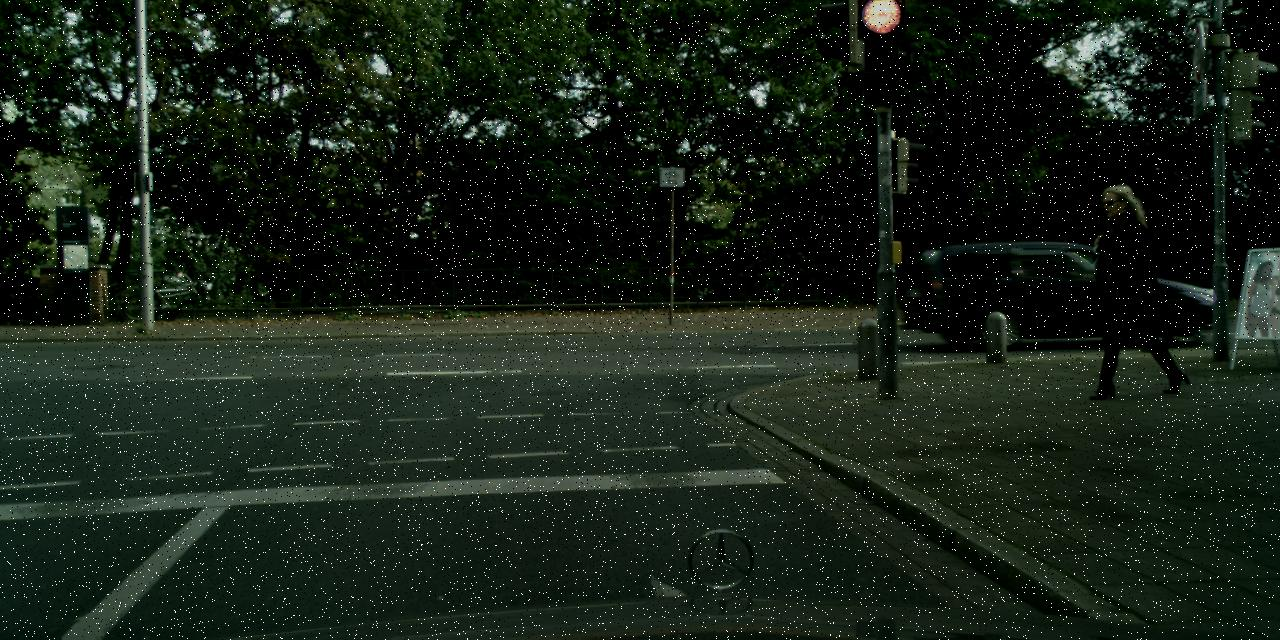ped: (1083, 184, 1168, 394)
